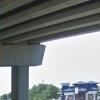Bridge: (5, 5, 95, 80)
